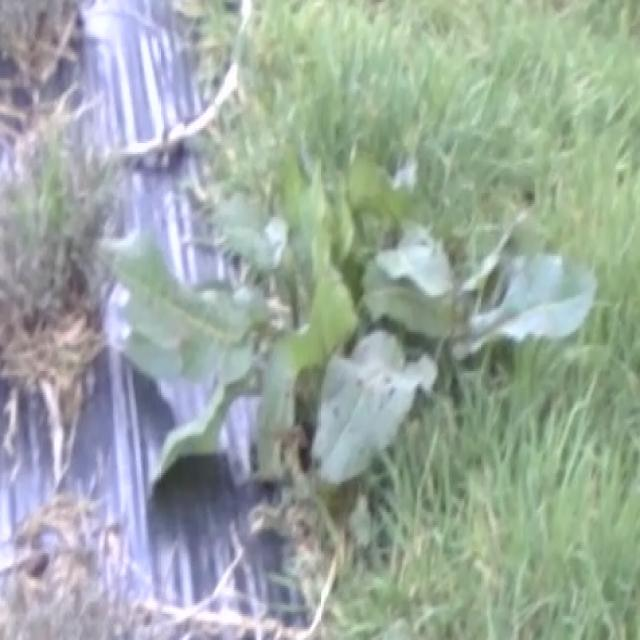organic waste: (107, 123, 621, 503)
